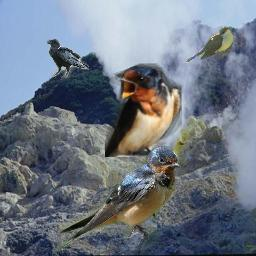Crow: (46, 39, 89, 78)
Cuckoo: (182, 27, 233, 63)
Swallow: (52, 146, 182, 255), (105, 63, 182, 157)
